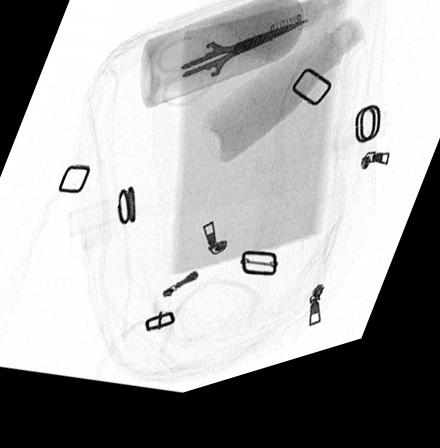Scissors: (155, 37, 307, 119)
